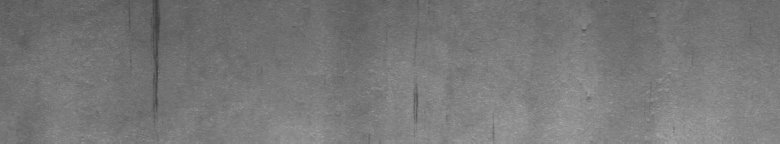hd: (148, 4, 163, 108)
